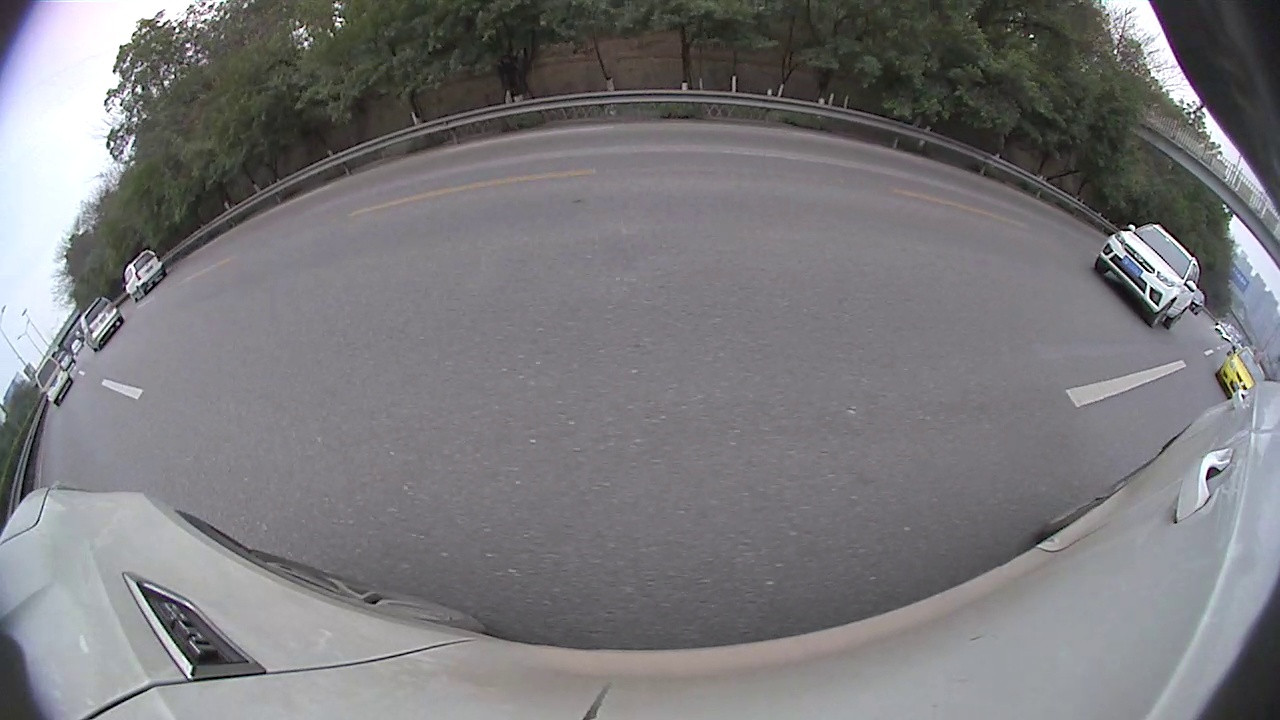car: (44, 148, 465, 431), (587, 107, 810, 260), (998, 221, 1207, 352), (1150, 300, 1279, 466), (804, 148, 865, 214), (522, 149, 589, 203)
front: (428, 204, 462, 256), (1010, 240, 1046, 279)
rear: (197, 281, 292, 387), (1136, 303, 1177, 351)
